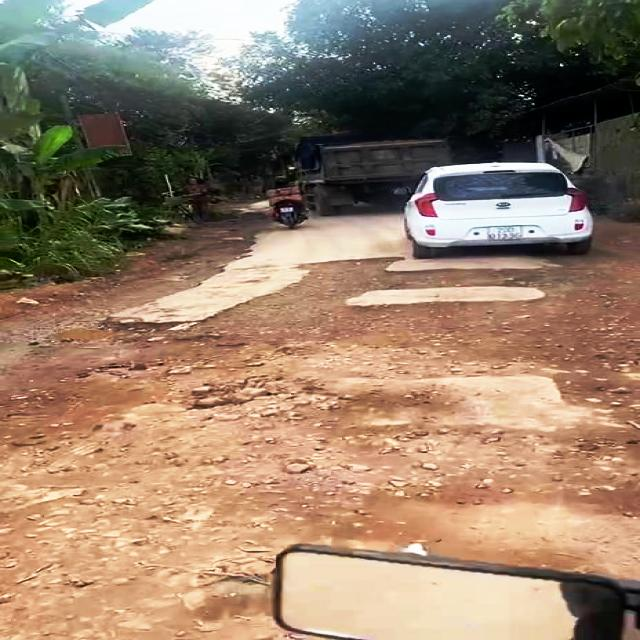pothole: (0, 321, 470, 507), (190, 258, 465, 384), (448, 263, 640, 406)
